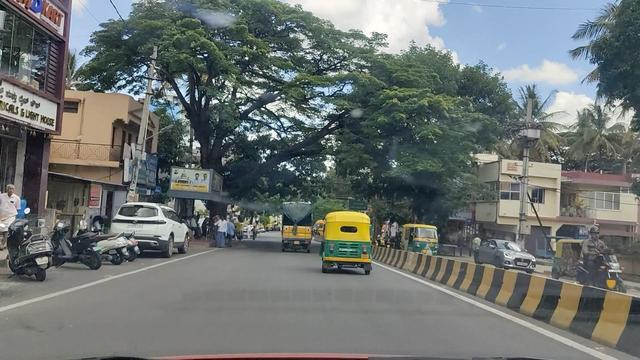HMV: (282, 202, 312, 253)
LMV: (327, 214, 372, 265)
